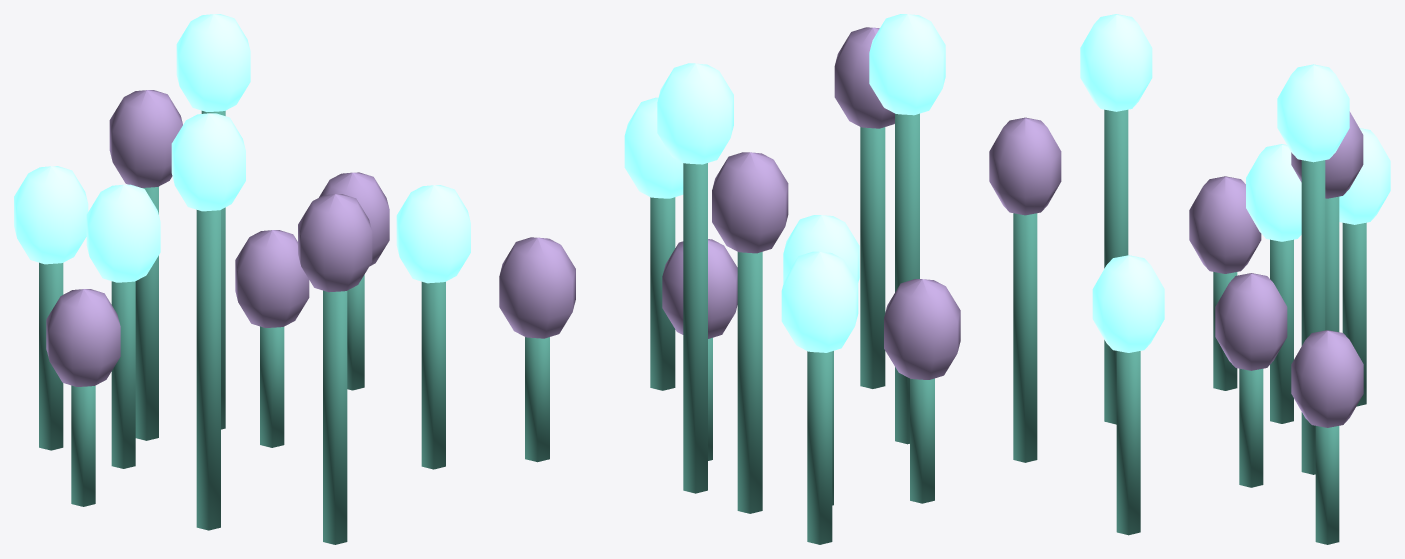
File: scat_crystal_spores.glb
3 views of the same model, side by side, from view 1: azimuth 30°, elevation 25°; view 2: azimuth 150°, elevation 25°; view 3: azimuth 270°, elevation 25° (orthographic). The views are drawn at different scales.
Visible parts, largest first — view 1: SCAT_crystal_spores_spore_stem_7, SCAT_crystal_spores_spore_stem_2, SCAT_crystal_spores_glow_spore_9, SCAT_crystal_spores_glow_spore_7, SCAT_crystal_spores_glow_spore_5, SCAT_crystal_spores_glow_spore_2, SCAT_crystal_spores_glow_spore_3, SCAT_crystal_spores_glow_spore_4, SCAT_crystal_spores_glow_spore_1, SCAT_crystal_spores_glow_spore_0, SCAT_crystal_spores_glow_spore_6, SCAT_crystal_spores_spore_stem_5 (+8 smaller); view 2: SCAT_crystal_spores_spore_stem_3, SCAT_crystal_spores_spore_stem_6, SCAT_crystal_spores_spore_stem_2, SCAT_crystal_spores_glow_spore_1, SCAT_crystal_spores_glow_spore_8, SCAT_crystal_spores_glow_spore_3, SCAT_crystal_spores_glow_spore_6, SCAT_crystal_spores_glow_spore_7, SCAT_crystal_spores_glow_spore_4, SCAT_crystal_spores_spore_stem_7, SCAT_crystal_spores_spore_stem_1, SCAT_crystal_spores_spore_stem_5 (+7 smaller); view 3: SCAT_crystal_spores_spore_stem_2, SCAT_crystal_spores_glow_spore_8, SCAT_crystal_spores_glow_spore_0, SCAT_crystal_spores_glow_spore_7, SCAT_crystal_spores_glow_spore_5, SCAT_crystal_spores_glow_spore_2, SCAT_crystal_spores_glow_spore_3, SCAT_crystal_spores_glow_spore_4, SCAT_crystal_spores_spore_stem_3, SCAT_crystal_spores_spore_stem_7, SCAT_crystal_spores_spore_stem_5, SCAT_crystal_spores_glow_spore_9 (+8 smaller).
Boxes of the visible parts, bbox=[...] form: SCAT_crystal_spores_spore_stem_7: bbox=[196, 210, 220, 530]; SCAT_crystal_spores_spore_stem_2: bbox=[323, 290, 347, 544]; SCAT_crystal_spores_glow_spore_9: bbox=[86, 184, 160, 282]; SCAT_crystal_spores_glow_spore_7: bbox=[171, 113, 245, 211]; SCAT_crystal_spores_glow_spore_5: bbox=[396, 185, 470, 283]; SCAT_crystal_spores_glow_spore_2: bbox=[298, 194, 372, 292]; SCAT_crystal_spores_glow_spore_3: bbox=[176, 14, 250, 111]; SCAT_crystal_spores_glow_spore_4: bbox=[46, 289, 120, 386]; SCAT_crystal_spores_glow_spore_1: bbox=[14, 166, 88, 264]; SCAT_crystal_spores_glow_spore_0: bbox=[235, 230, 309, 327]; SCAT_crystal_spores_glow_spore_6: bbox=[109, 90, 182, 187]; SCAT_crystal_spores_spore_stem_5: bbox=[421, 282, 445, 469]; SCAT_crystal_spores_spore_stem_3: bbox=[683, 163, 707, 493]; SCAT_crystal_spores_spore_stem_6: bbox=[737, 252, 762, 513]; SCAT_crystal_spores_spore_stem_2: bbox=[860, 127, 885, 388]; SCAT_crystal_spores_glow_spore_1: bbox=[781, 251, 858, 352]; SCAT_crystal_spores_glow_spore_8: bbox=[499, 237, 575, 338]; SCAT_crystal_spores_glow_spore_3: bbox=[657, 63, 733, 164]; SCAT_crystal_spores_glow_spore_6: bbox=[712, 152, 788, 253]; SCAT_crystal_spores_glow_spore_7: bbox=[869, 14, 945, 115]; SCAT_crystal_spores_glow_spore_4: bbox=[884, 279, 960, 379]; SCAT_crystal_spores_spore_stem_7: bbox=[895, 113, 919, 444]; SCAT_crystal_spores_spore_stem_1: bbox=[807, 351, 832, 544]; SCAT_crystal_spores_spore_stem_5: bbox=[650, 197, 675, 390]; SCAT_crystal_spores_spore_stem_2: bbox=[1013, 213, 1037, 462]; SCAT_crystal_spores_glow_spore_8: bbox=[1291, 330, 1363, 427]; SCAT_crystal_spores_glow_spore_0: bbox=[1215, 273, 1287, 370]; SCAT_crystal_spores_glow_spore_7: bbox=[1080, 14, 1152, 111]; SCAT_crystal_spores_glow_spore_5: bbox=[1092, 255, 1164, 352]; SCAT_crystal_spores_glow_spore_2: bbox=[989, 117, 1061, 215]; SCAT_crystal_spores_glow_spore_3: bbox=[1277, 64, 1349, 162]; SCAT_crystal_spores_glow_spore_4: bbox=[1189, 176, 1261, 273]; SCAT_crystal_spores_spore_stem_3: bbox=[1301, 160, 1325, 474]; SCAT_crystal_spores_spore_stem_7: bbox=[1104, 109, 1128, 424]; SCAT_crystal_spores_spore_stem_5: bbox=[1116, 351, 1140, 535]; SCAT_crystal_spores_glow_spore_9: bbox=[1246, 144, 1301, 241].
Size of the model in its own units: 0.6744 by 0.681 by 0.6135.
